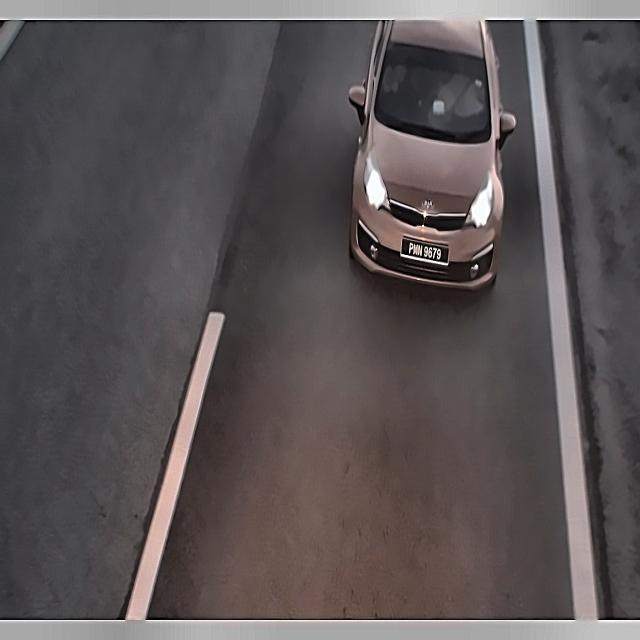car: (398, 228, 458, 277)
